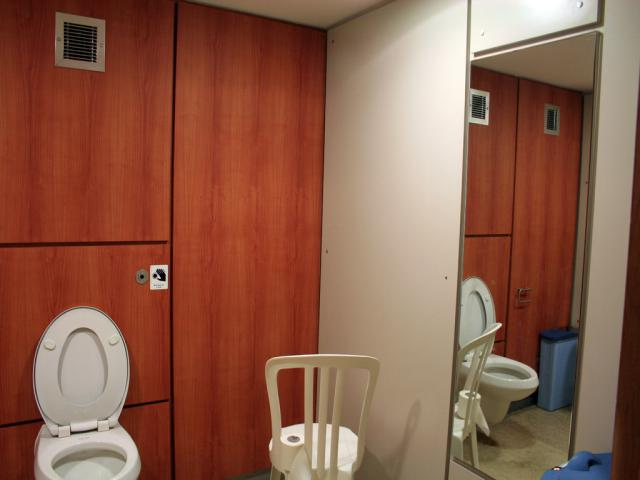Door-handle: (517, 288, 531, 302)
